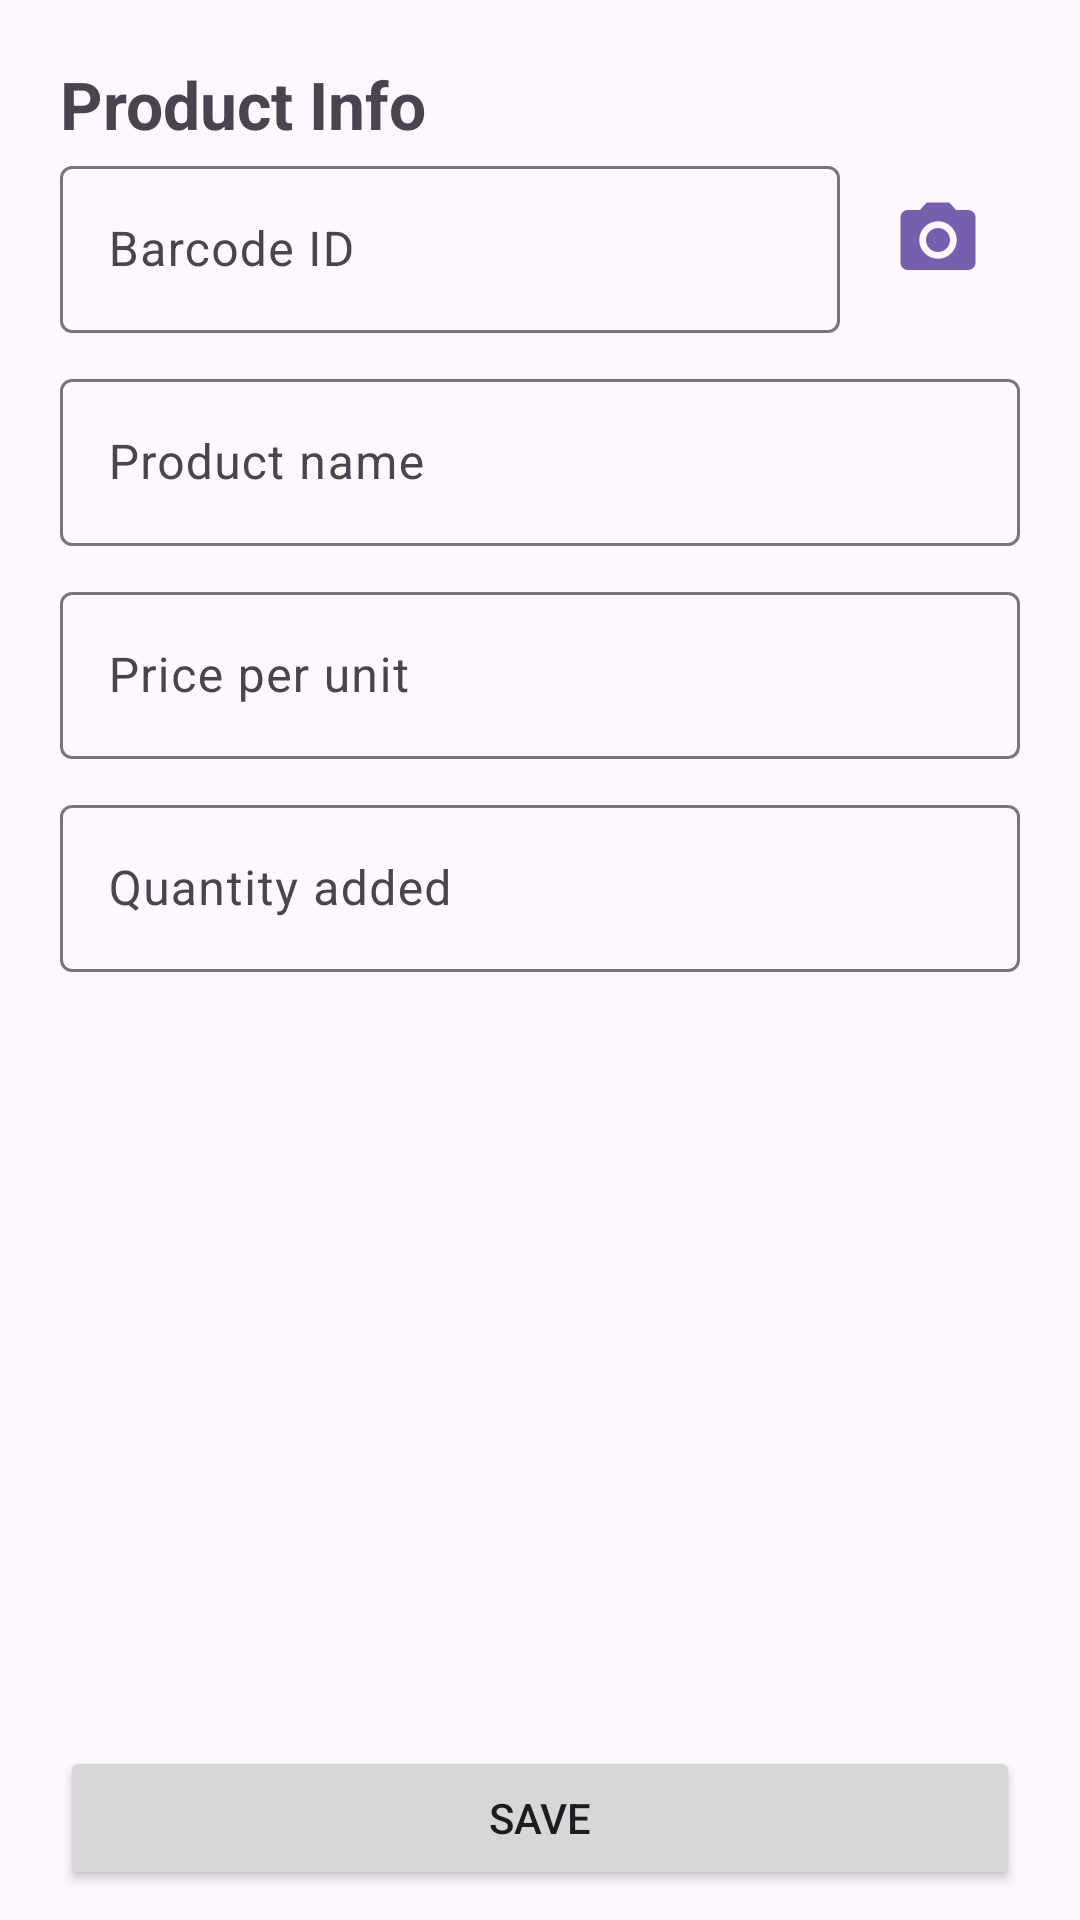

Named icons in this screenshot (1080*1920) and their centers, [x,y]:
cam: [938,236]
